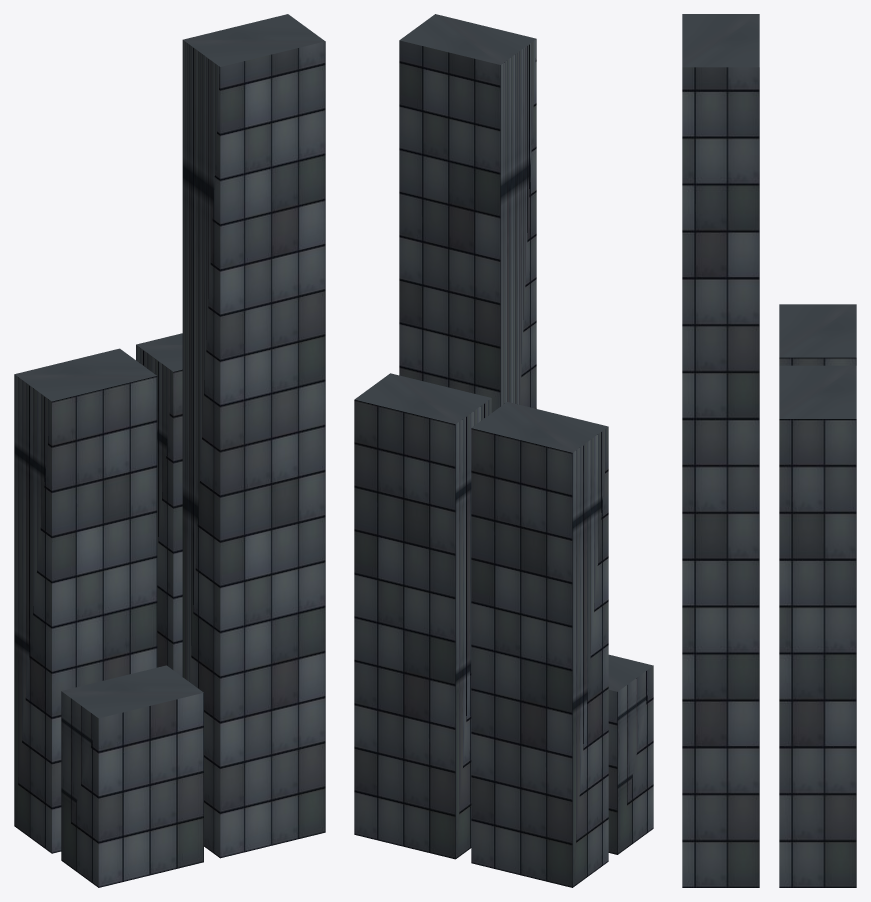
Rendered from block_03.obj.
The picture shows the model from 3 angles, left to right: view 1: azimuth 30°, elevation 25°; view 2: azimuth 150°, elevation 25°; view 3: azimuth 270°, elevation 25°; orthographic projection. The views are drawn at different scales.
Parts seen in each view (by area): view 1: b3, b0, b1, b2; view 2: b0, b2, b3, b1; view 3: b3, b2, b0.
Part boxes in pixels (x1,y1,x2,y2): b3: (182, 14, 325, 858); b0: (14, 348, 157, 853); b1: (61, 665, 203, 887); b2: (136, 333, 182, 676); b0: (471, 402, 608, 887); b2: (354, 373, 491, 859); b3: (399, 14, 536, 412); b1: (608, 654, 653, 854); b3: (682, 14, 759, 887); b2: (779, 365, 856, 887); b0: (779, 304, 856, 365).
Bounding box in the file's own units: 4.2 × 14 × 2.7.
